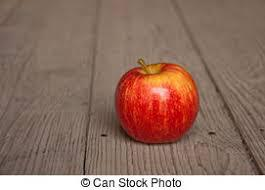apple: (123, 56, 198, 142)
